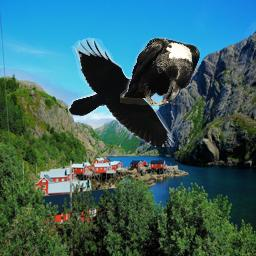Crow: (68, 37, 175, 147), (120, 36, 201, 108)
